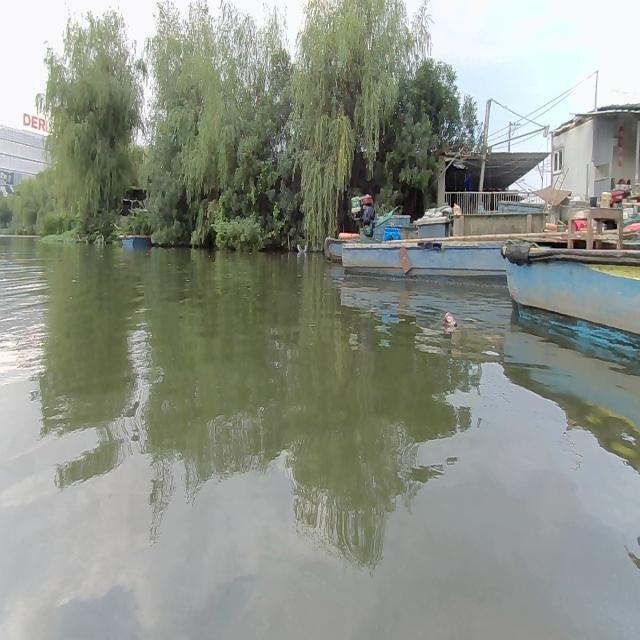bottle: (443, 308, 459, 332)
